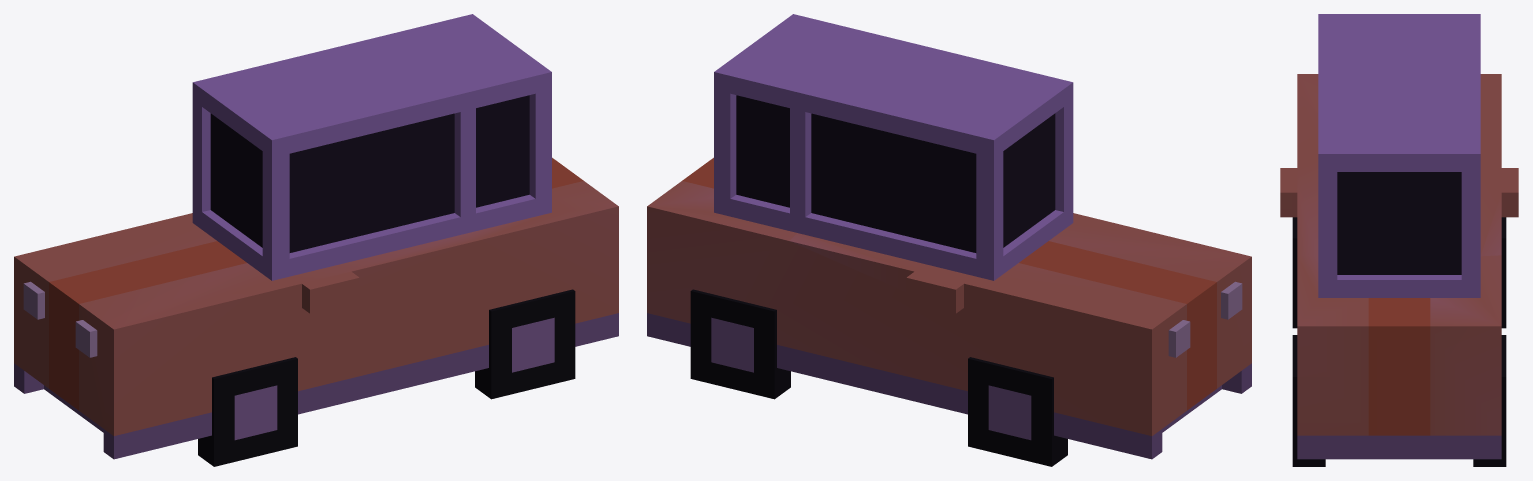
Rendered from Car.glb.
The picture shows the model from 3 angles, left to right: view 1: azimuth 30°, elevation 25°; view 2: azimuth 150°, elevation 25°; view 3: azimuth 270°, elevation 25°; orthographic projection. The views are drawn at different scales.
Visible parts, largest first — view 1: Car; view 2: Car; view 3: Car.
Boxes of the visible parts, x1=… form: Car: x1=14, y1=14, x2=618, y2=466; Car: x1=647, y1=14, x2=1251, y2=466; Car: x1=1280, y1=14, x2=1518, y2=466.
Size of the model in its own units: 3.04 by 1.71 by 1.2.
